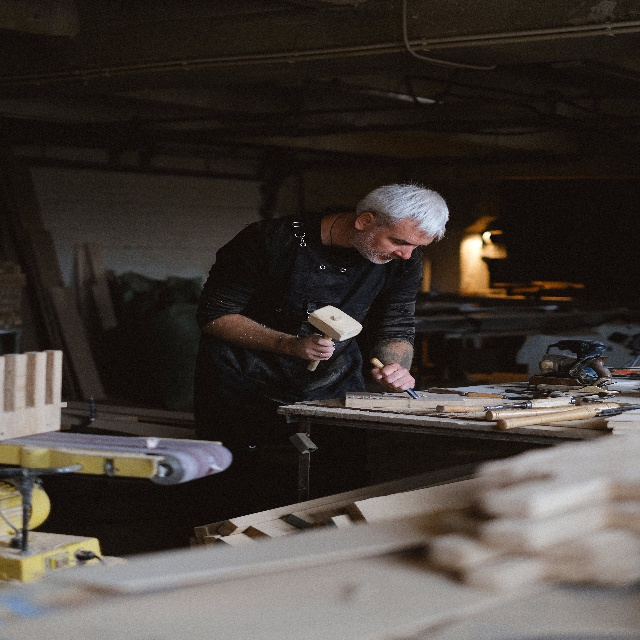Sin_guantes: (371, 357, 417, 396), (293, 333, 334, 359)
